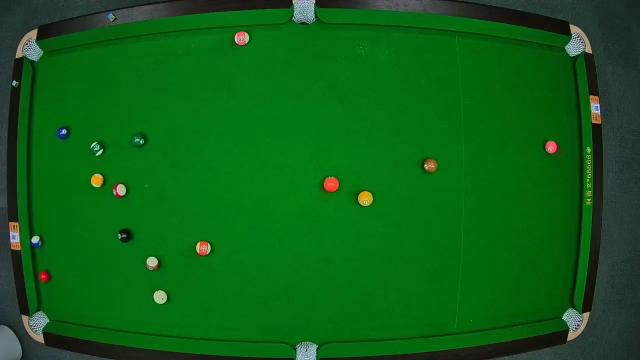bag1: (21, 39, 39, 61)
bag2: (291, 1, 317, 25)
bag3: (564, 35, 586, 56)
bag4: (28, 310, 48, 334)
bag5: (294, 342, 318, 360)
bag6: (564, 310, 584, 332)
ball0: (152, 289, 168, 305)
ball1: (358, 191, 374, 207)
ball10: (31, 235, 44, 249)
ball11: (113, 184, 127, 198)
ball12: (234, 30, 250, 46)
ball13: (195, 240, 212, 256)
ball14: (90, 141, 106, 157)
ball15: (146, 255, 160, 271)
ball2: (56, 125, 72, 139)
ball3: (39, 270, 51, 284)
ball4: (546, 141, 558, 155)
ball5: (324, 175, 340, 192)
ball6: (130, 132, 146, 148)
ball7: (423, 158, 437, 174)
ball8: (118, 227, 132, 243)
ball9: (91, 174, 105, 188)
